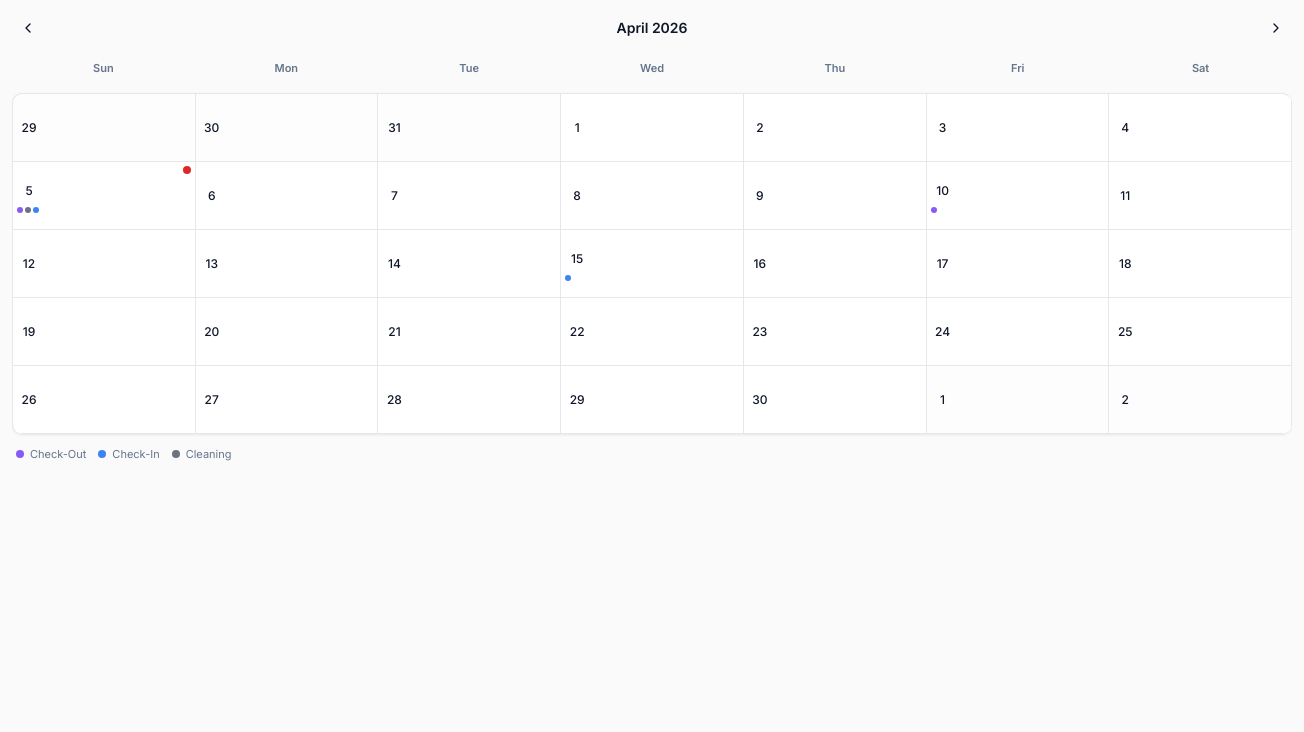
CalendarGrid — calendar view › shows day detail panel when a day is clicked
Note: Click on day 5 (has events)
Click the button "5".
click(104, 196)  # box [13,162,196,230]
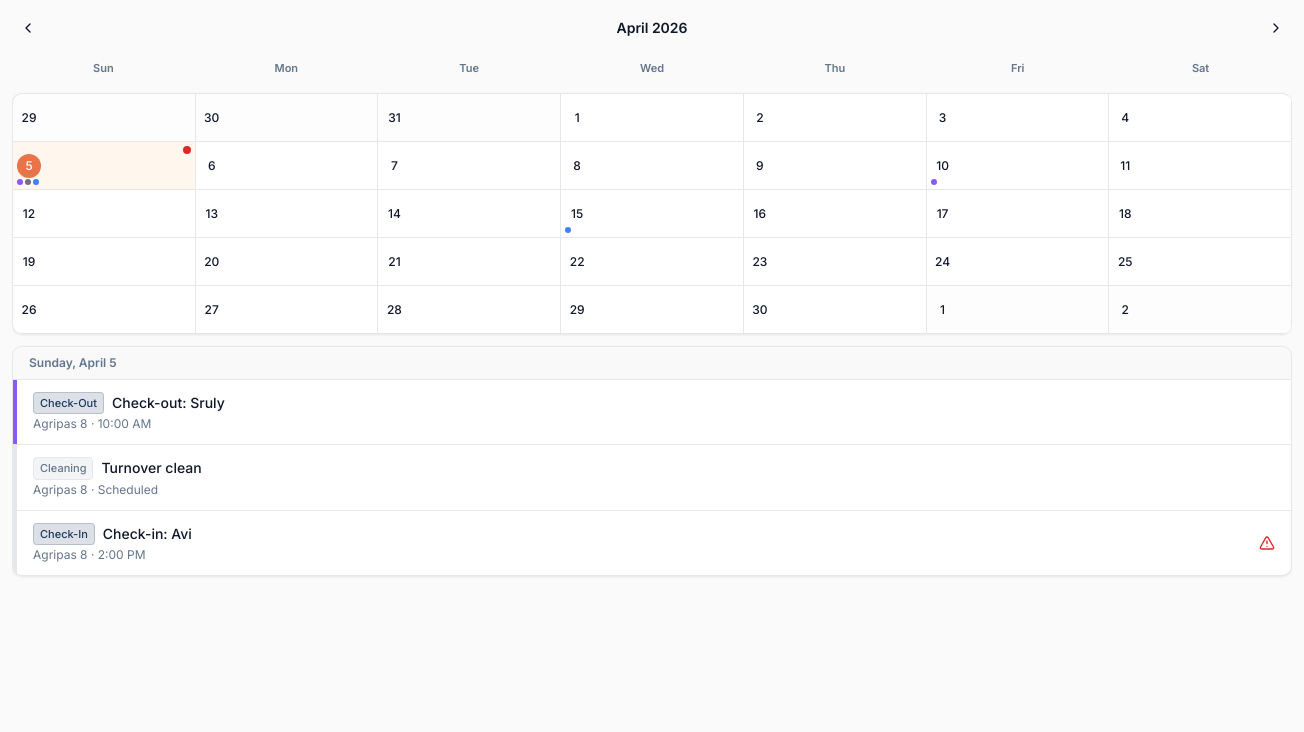
expect the text "Check-out: Sruly" is shown: met, box [112,393,225,413]
expect the text "Turnover clean" is shown: met, box [102,458,202,478]
expect the text "Check-in: Avi" is shown: met, box [103,524,192,544]
